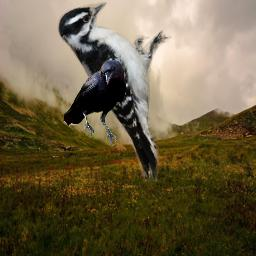Crow: (64, 60, 126, 145)
Woodpecker: (57, 2, 172, 182)
